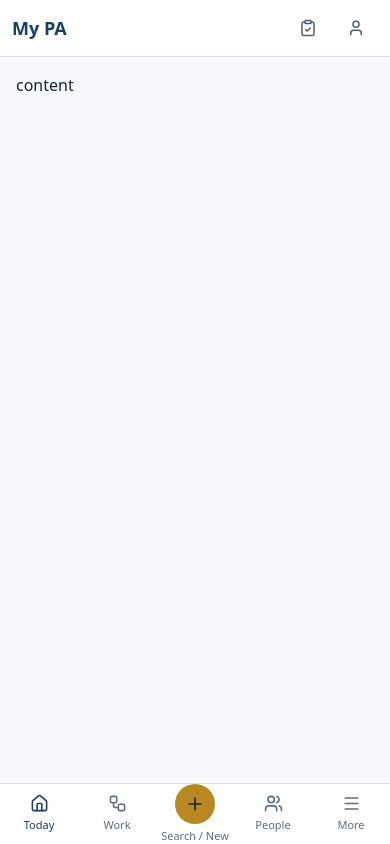
Scenario: app shell › shows the signed-in principal and the synthetic badge
Click the button named "Account": (356, 28) [334, 6, 378, 50]
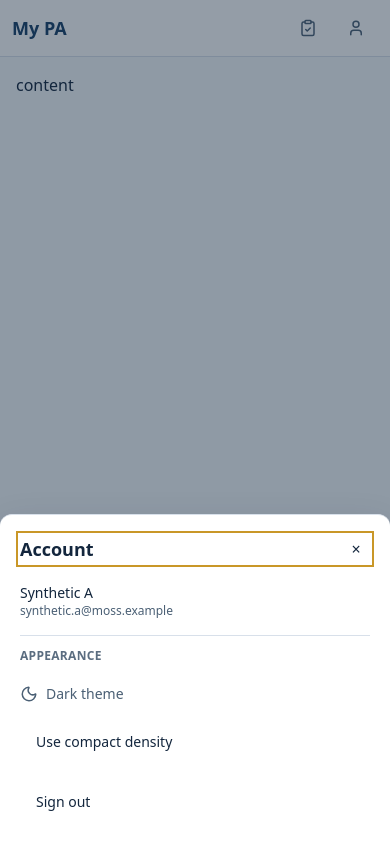
Check: the text with test id "principal-name" reads "Synthetic A", box [20, 583, 93, 602]
Check: the text with test id "principal-upn" reads "synthetic.a@moss.example", box [20, 602, 173, 619]
